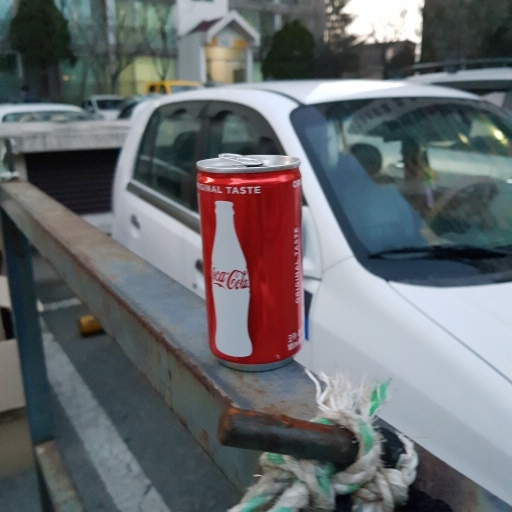Metal_0: (196, 149, 306, 372)
